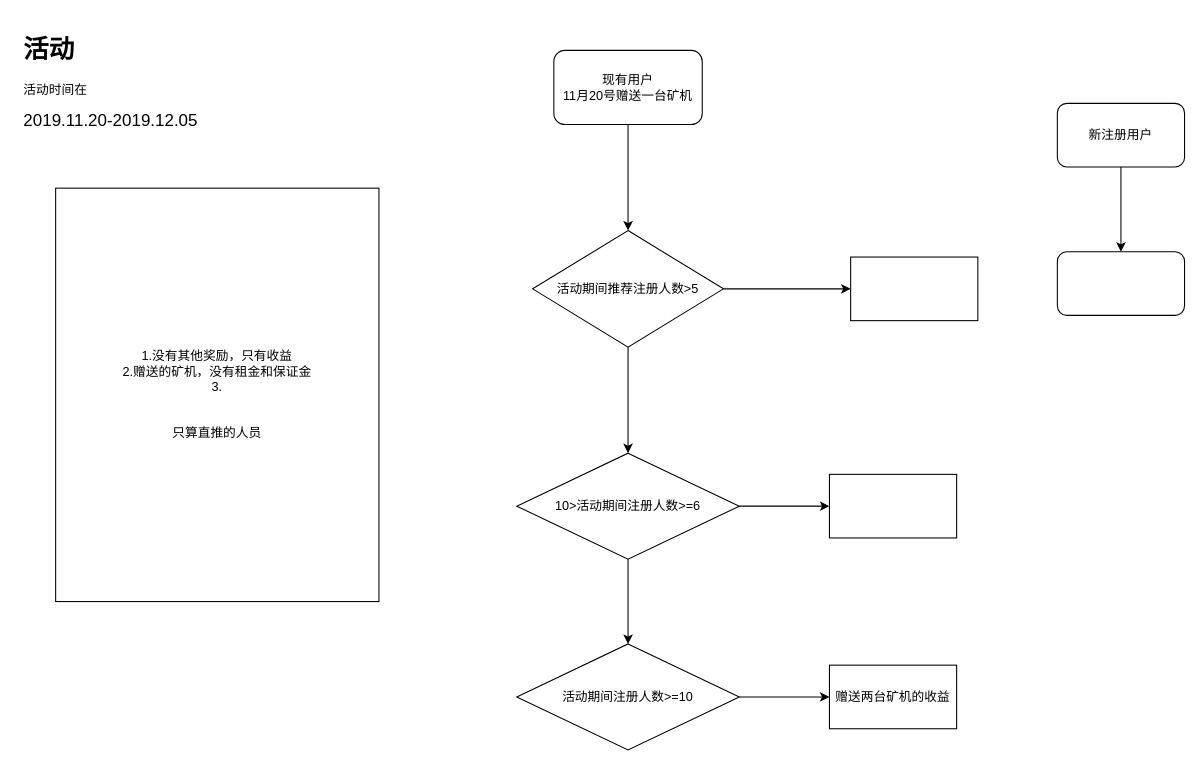
The diagram is 1203 pixels wide and 768 high, and some of its shapes have lost their labels. The shapes that lost their labels are listed below. From the top down, each one's centre as x and y in pixels, then its label:
At point (914, 288): "1.有就到期发放收益， 2.没有就不发放收益".
At point (1120, 283): "赠送矿机".
At point (892, 505): "赠送两台".
